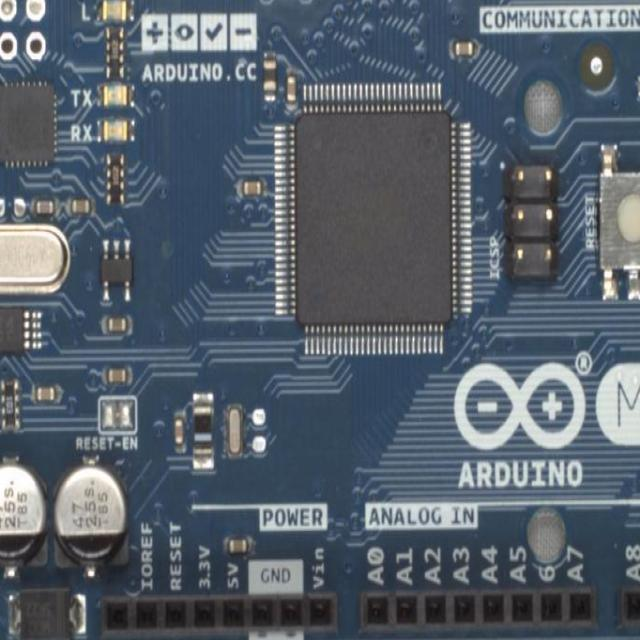IC: (269, 80, 473, 354), (0, 77, 56, 170), (7, 585, 87, 640), (99, 231, 133, 303), (0, 302, 42, 356)
LED: (97, 80, 133, 105), (96, 0, 134, 23), (96, 118, 134, 141), (636, 72, 640, 97)
button: (598, 139, 640, 301)
capacitor: (448, 34, 481, 62), (222, 534, 254, 556), (236, 174, 268, 195), (65, 196, 95, 218), (28, 195, 60, 215), (100, 313, 132, 333), (29, 381, 61, 401), (101, 363, 132, 383), (284, 66, 298, 106), (173, 406, 185, 452)
clock: (0, 220, 72, 295), (226, 400, 243, 458)
connector: (96, 591, 337, 636), (356, 590, 596, 631), (501, 159, 560, 282), (0, 0, 46, 59), (614, 583, 640, 627)
diode: (193, 390, 213, 471)
electrolytic capacitor: (50, 450, 126, 579), (0, 450, 49, 577)
pads: (97, 392, 137, 435), (250, 400, 266, 454), (0, 194, 28, 214)
resistor: (104, 24, 126, 80), (0, 378, 22, 431), (108, 150, 126, 207), (263, 50, 274, 101)
